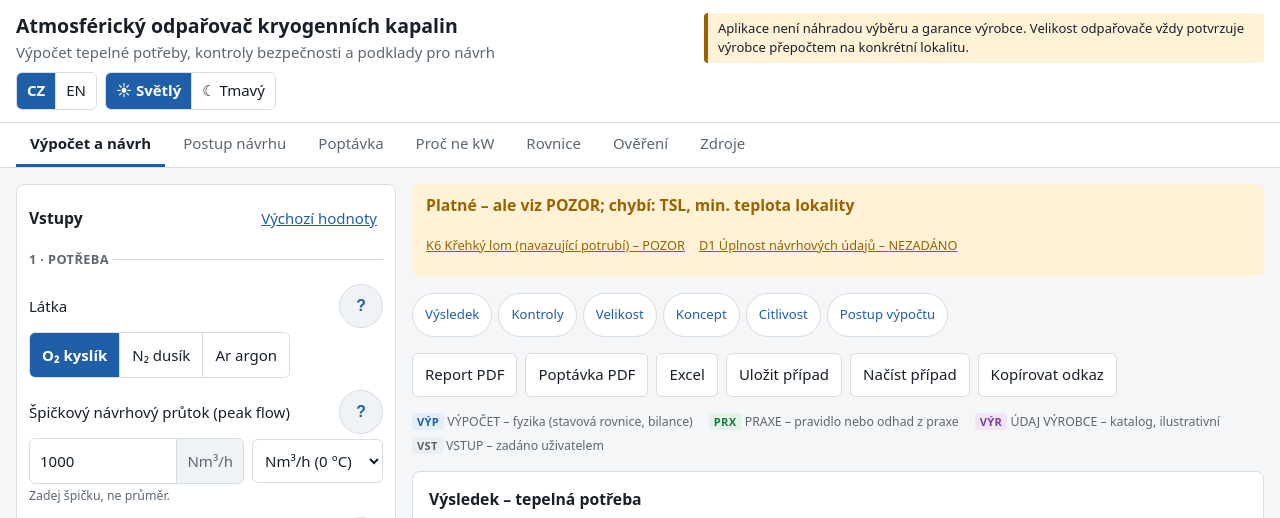
Test: jazyk › výchozí je čeština (prohlížeč cs), přepnutí na EN přeloží UI a uloží volbu
Click the radio button labelled "EN" at (76,91), box [56,73,96,109]
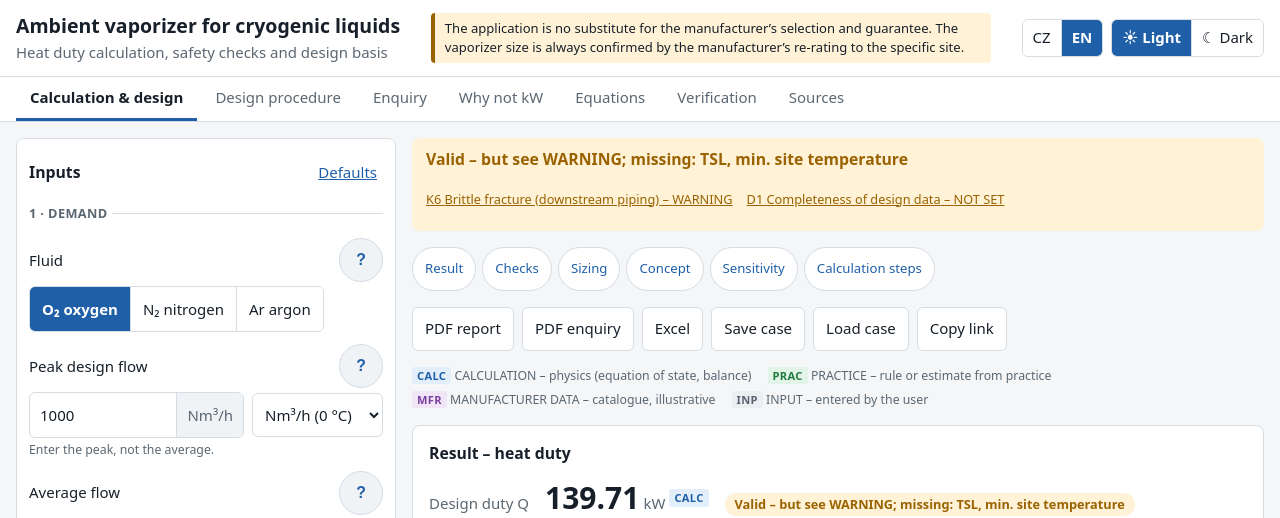
Expected: the message with test id "status" reads "Valid – but see WARNING; missing: TSL, min. site temperature", [426,148,908,170]
Now the heading "Inputs" is shown, box [29,161,80,184]
Click the radio button labelled "CZ" at (1042,38), box [1023,20,1062,56]
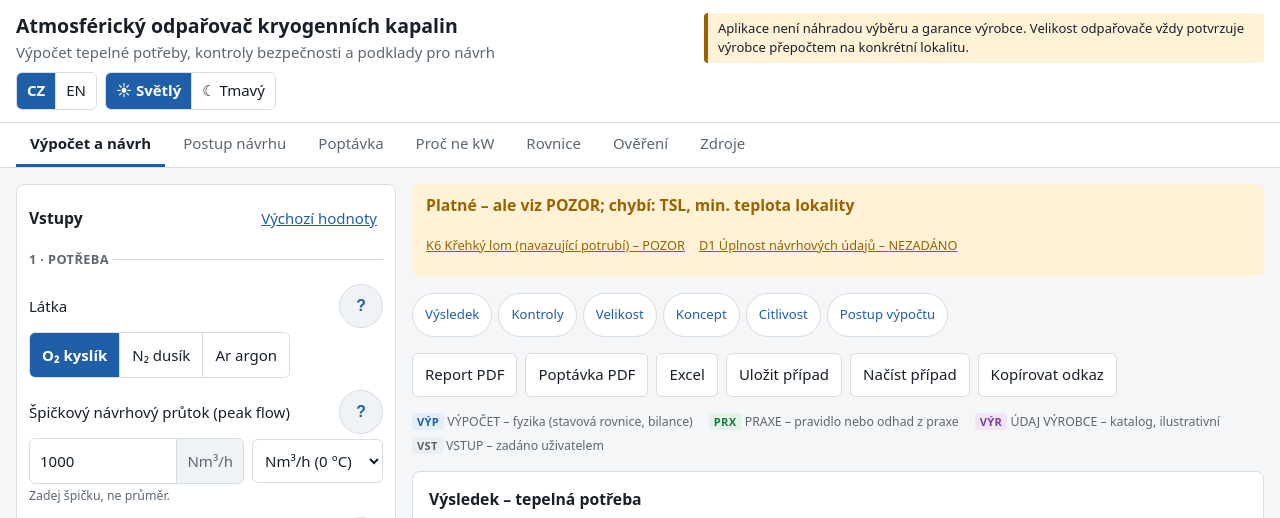
Now the navigation bar named "Stránky" is shown, box [0,123,1279,168]
